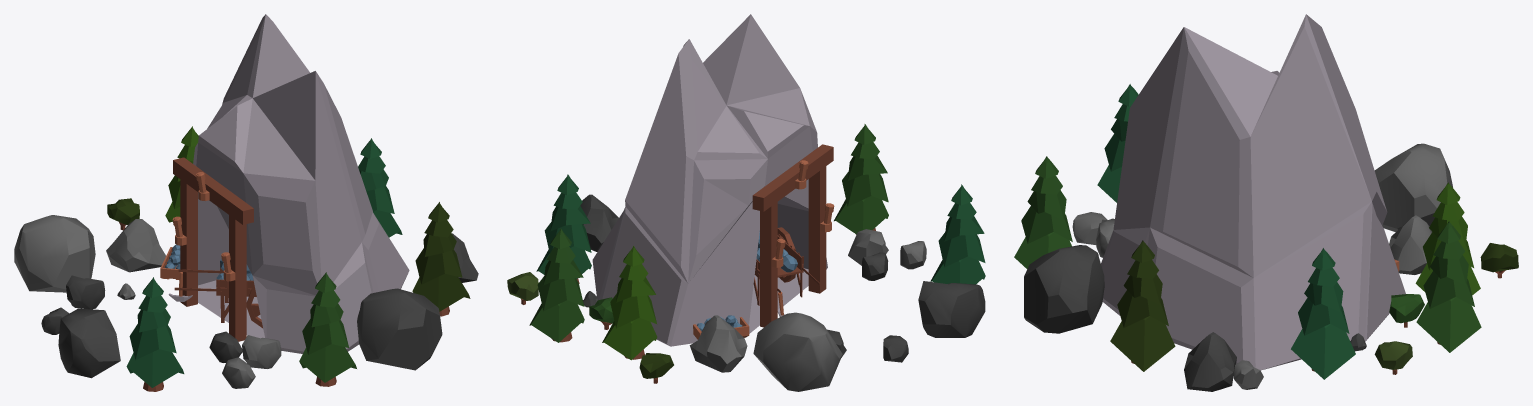
The model's file is MineLVL2.fbx.
3 views of the same model, side by side, from view 1: azimuth 30°, elevation 25°; view 2: azimuth 150°, elevation 25°; view 3: azimuth 270°, elevation 25° (orthographic). The views are drawn at different scales.
Visible parts, largest first — view 1: Cube.001, Cube.002, Cube.019, Cube.018, ель.004, ель.006, ель.002, Cube.013, Cube.006, ель.003, Cube.004, Cube.011 (+8 smaller); view 2: Cube.001, Cube.002, Cube.018, ель.005, ель.001, ель.004, ель.006, Cube.013, ель.003, Cube.006, Cube.012, Cube.004 (+8 smaller); view 3: Cube.001, Cube.019, ель.005, ель.002, ель.003, Cube.018, ель.004, Cube.012, ель.001, ель.006, Cube.006, куст.001 (+5 smaller).
Boxes of the visible parts, x1,y1,x2,y2 form: Cube.001: (193,14,409,353); Cube.002: (173,157,253,341); Cube.019: (357,288,442,370); Cube.018: (14,215,95,292); ель.004: (299,272,356,386); ель.006: (126,277,184,391); ель.002: (412,202,470,316); Cube.013: (58,308,120,378); Cube.006: (106,219,165,272); ель.003: (358,138,402,237); Cube.004: (174,263,262,328); Cube.011: (66,275,105,309); Cube.001: (592,14,827,346); Cube.002: (752,144,833,327); Cube.018: (753,312,842,391); ель.005: (529,228,584,342); ель.001: (602,246,657,360); ель.004: (834,124,888,234); ель.006: (930,184,985,284); Cube.013: (918,281,985,337); ель.003: (536,174,591,283); Cube.006: (689,315,747,372); Cube.012: (580,194,618,251); Cube.004: (753,227,820,305); Cube.001: (1101,14,1405,370); Cube.019: (1024,245,1104,333); ель.005: (1416,221,1481,352); ель.002: (1110,240,1175,371); ель.003: (1291,248,1355,379); Cube.018: (1374,143,1452,232); ель.004: (1014,156,1072,268); Cube.012: (1184,332,1236,391); ель.001: (1415,182,1480,295); ель.006: (1097,84,1138,202); Cube.006: (1389,215,1431,274); куст.001: (1480,243,1518,278).
Bounding box in the file's own units: 819 × 514 × 796.
